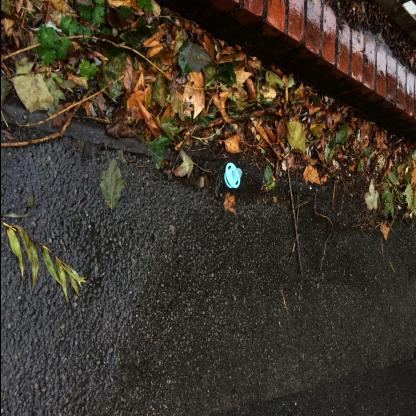plastik: (223, 162, 242, 189)
